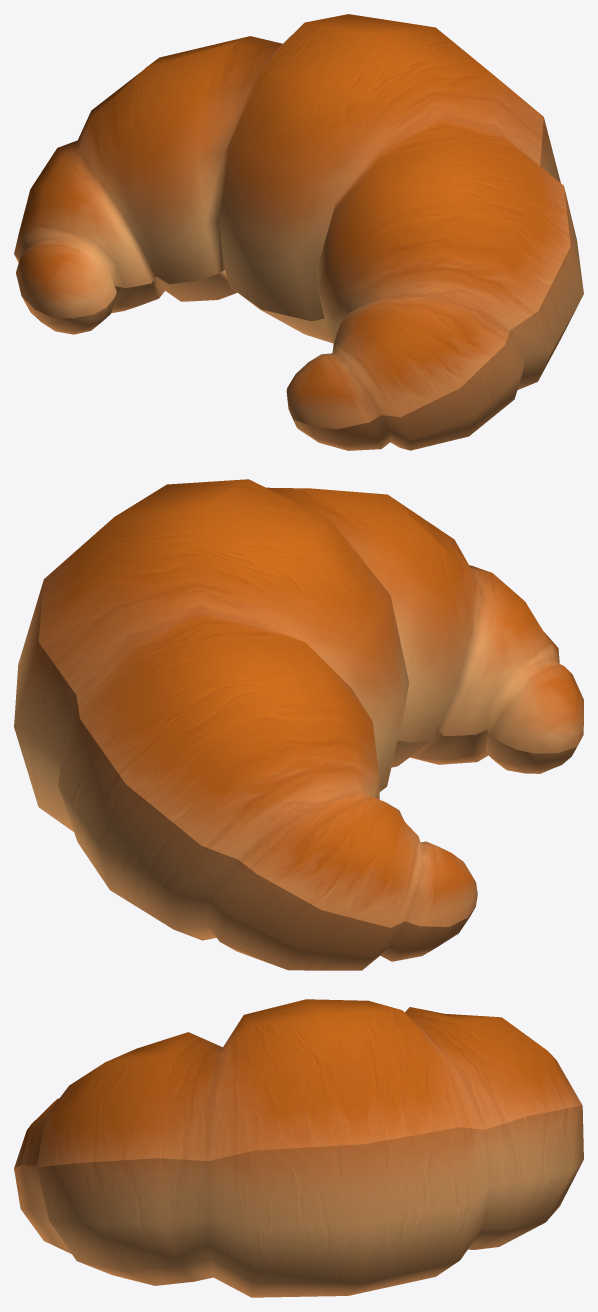
File: Croissant.fbx
3 views of the same model, one above another, from view 1: azimuth 30°, elevation 25°; view 2: azimuth 150°, elevation 25°; view 3: azimuth 270°, elevation 25° (orthographic). The views are drawn at different scales.
Parts seen in each view (by area): view 1: Croissant_1; view 2: Croissant_1; view 3: Croissant_1.
Part boxes in pixels (x1,y1,x2,y2): Croissant_1: [14, 14, 583, 450]; Croissant_1: [14, 479, 583, 970]; Croissant_1: [14, 999, 583, 1297].
Size of the model in its own units: 43.3 by 27.84 by 53.74.
Materials: 1 (1 with a texture image).
